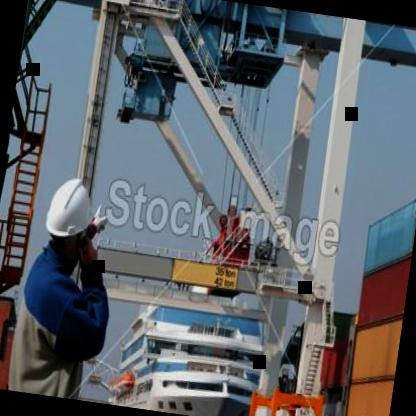helmet: (35, 171, 100, 266)
